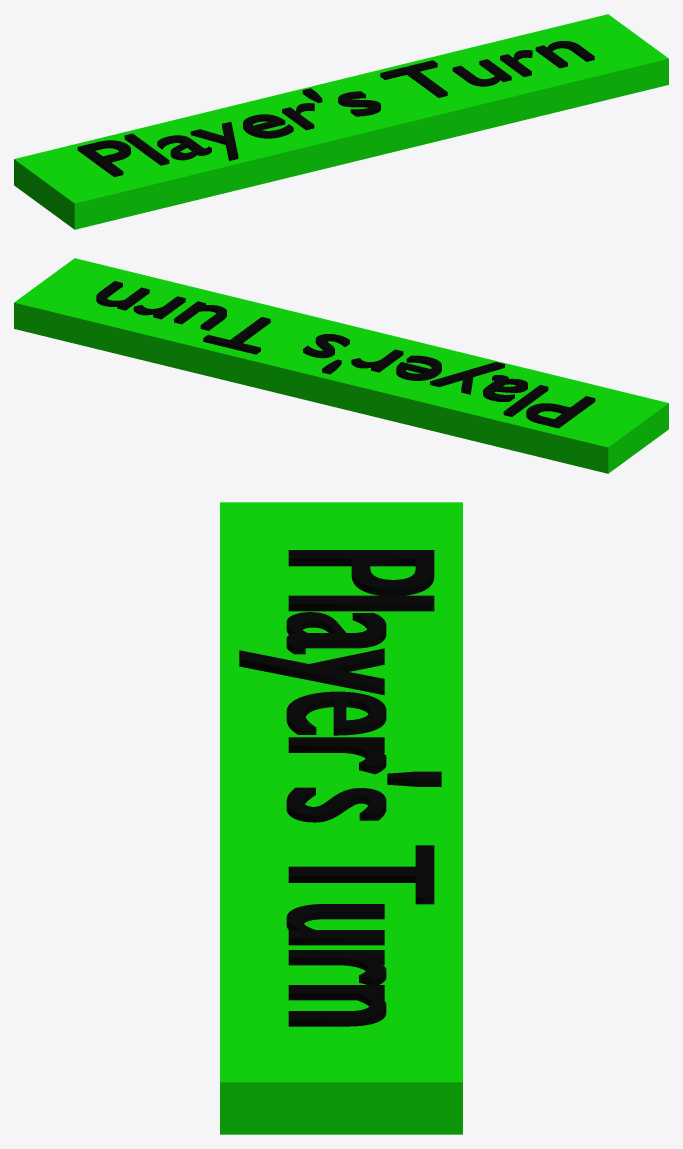
The model's file is playersTurnText.glb.
3 views of the same model, one above another, from view 1: azimuth 30°, elevation 25°; view 2: azimuth 150°, elevation 25°; view 3: azimuth 270°, elevation 25° (orthographic). The views are drawn at different scales.
Visible parts, largest first — view 1: Cube, テキスト; view 2: Cube, テキスト; view 3: Cube, テキスト.
Boxes of the visible parts, bbox=[...] form: Cube: bbox=[14, 14, 668, 229]; テキスト: bbox=[77, 41, 594, 177]; Cube: bbox=[14, 258, 668, 473]; テキスト: bbox=[96, 281, 595, 428]; Cube: bbox=[220, 502, 462, 1134]; テキスト: bbox=[239, 550, 441, 1026].
Size of the model in its own units: 6.42 by 0.3087 by 1.14.
